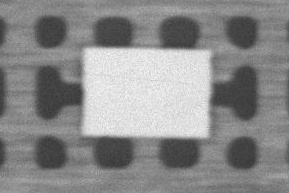DIE_CRACK: (124, 49, 279, 55)
